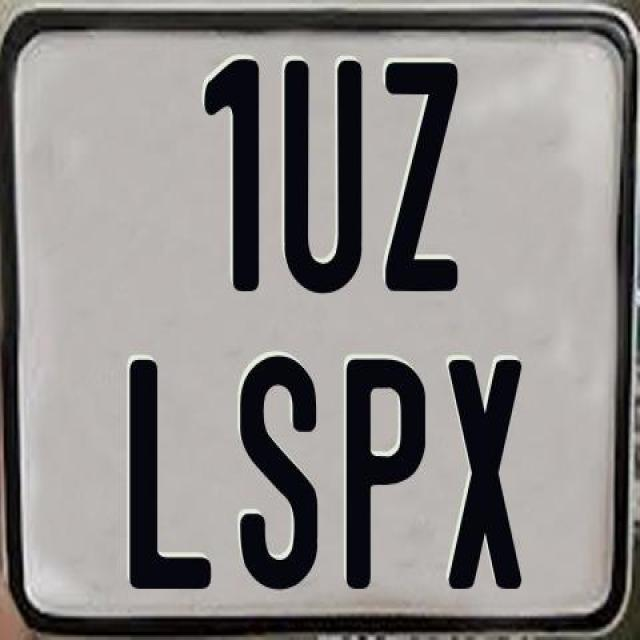1: (201, 56, 263, 290)
L: (126, 358, 216, 590)
P: (344, 356, 431, 594)
S: (238, 356, 322, 596)
U: (281, 61, 359, 296)
X: (443, 360, 518, 592)
Z: (382, 59, 454, 288)
